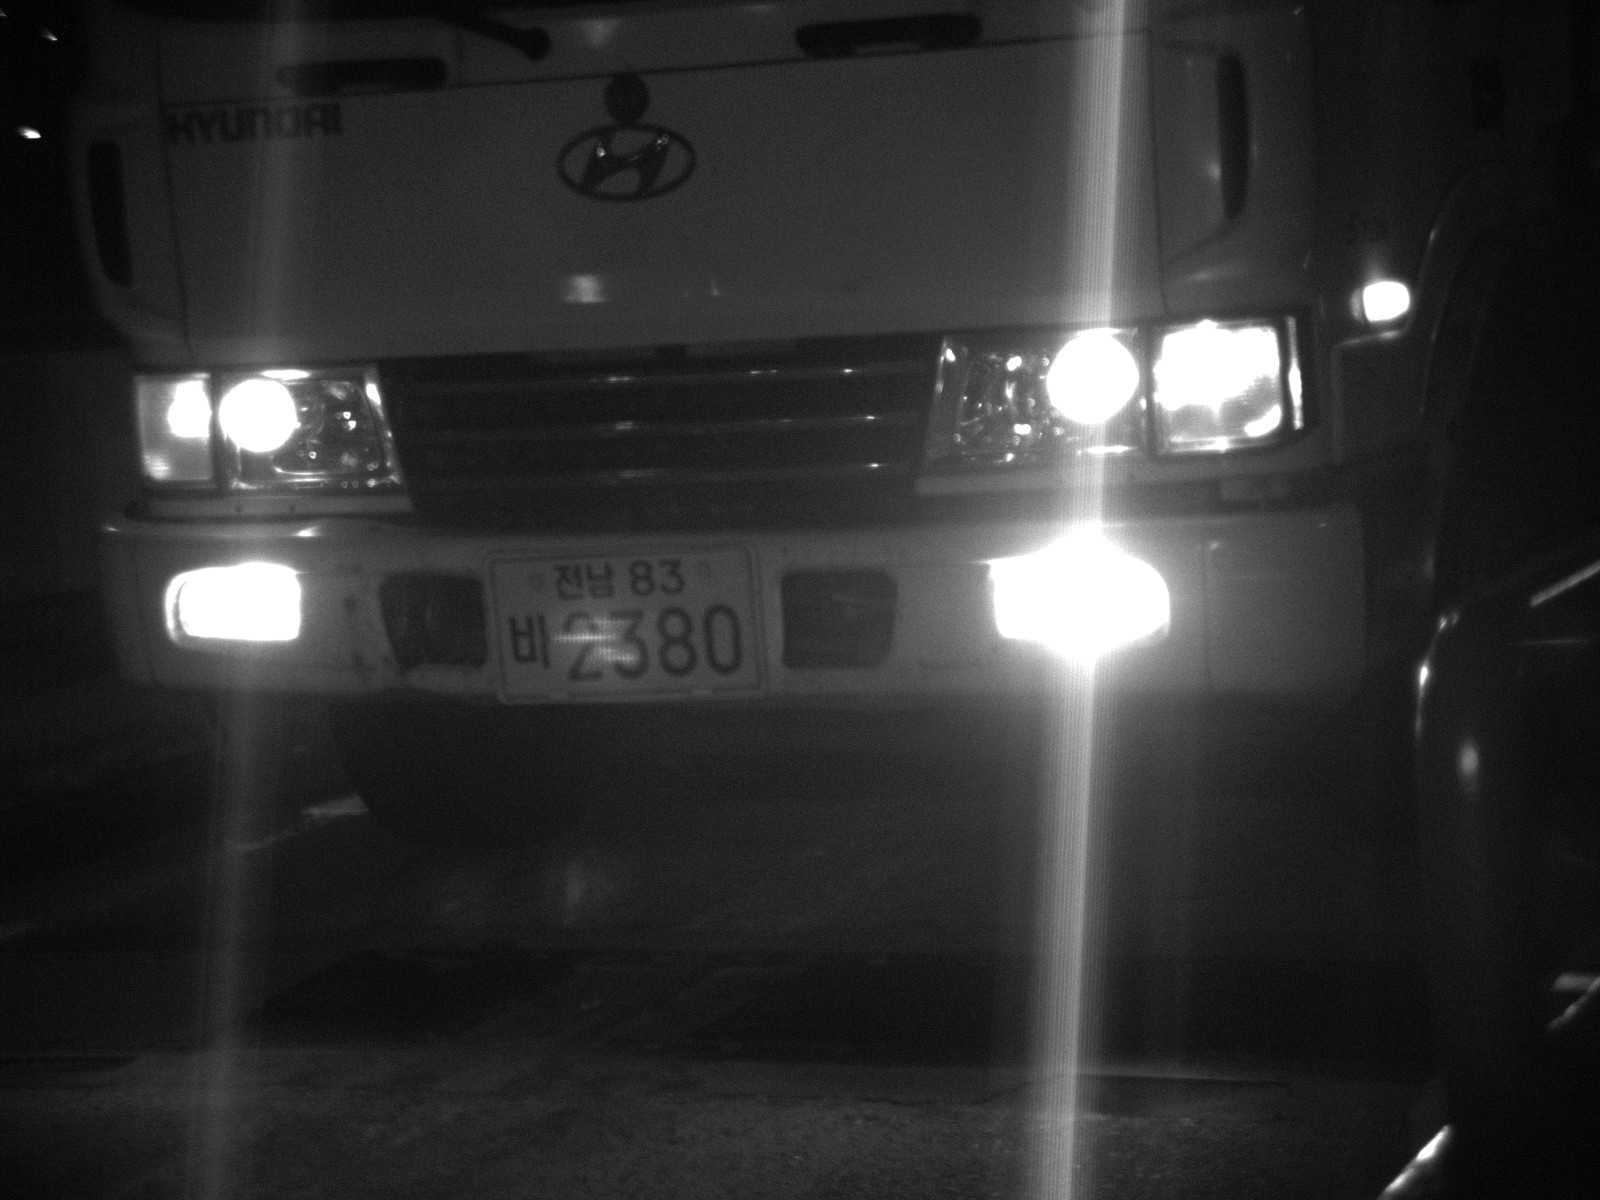car: (66, 1, 1599, 850)
plate: (478, 536, 779, 712)
